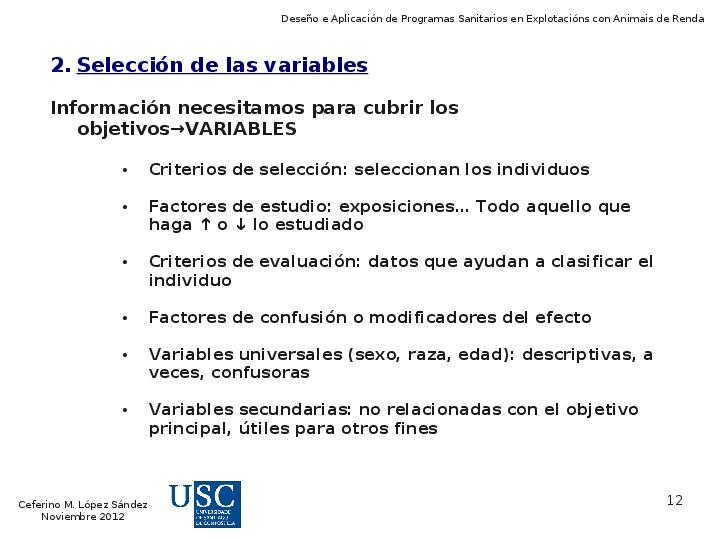paragraph: (48, 86, 693, 461)
subtitle: (40, 36, 390, 85), (10, 474, 250, 533)
title: (278, 3, 713, 35)
